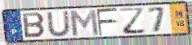7: (147, 6, 167, 34)
B: (21, 12, 47, 39)
F: (95, 7, 120, 37)
M: (67, 8, 100, 37)
U: (45, 10, 73, 38)
Z: (118, 6, 148, 35)
